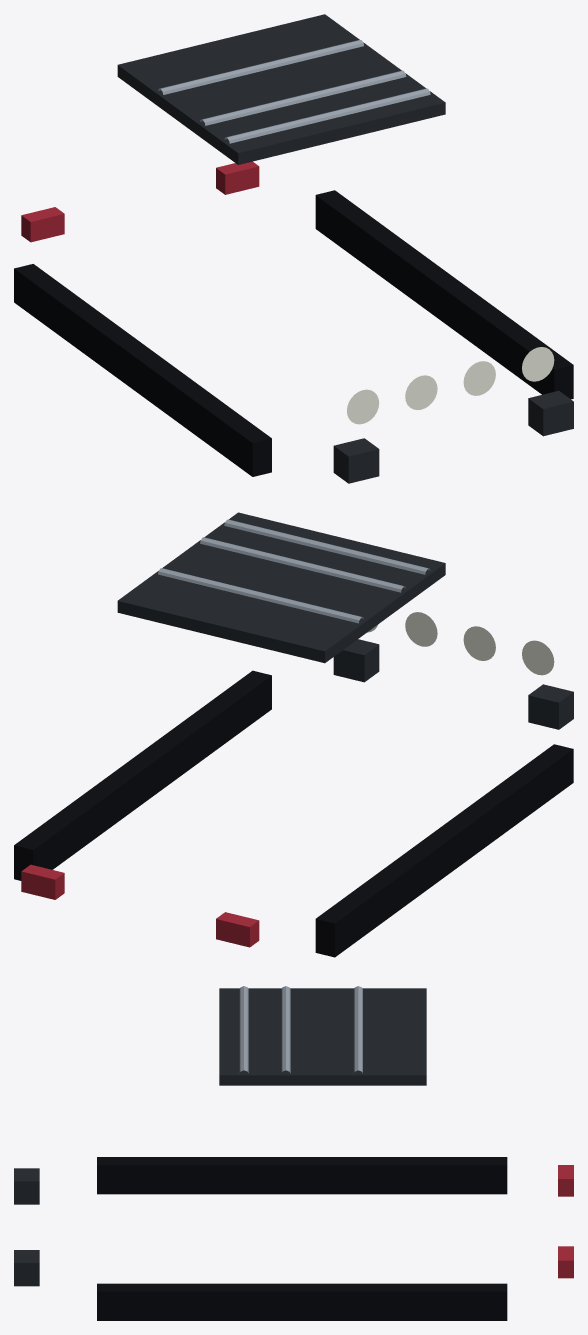
The model's file is black_maria_rally_dress.obj.
The picture shows the model from 3 angles, top to bottom: view 1: azimuth 30°, elevation 25°; view 2: azimuth 150°, elevation 25°; view 3: azimuth 270°, elevation 25°; orthographic projection. The views are drawn at different scales.
Parts seen in each view (by area): view 1: MUDGUARDS, ROOF_RACK, RACK_CROSSBARS, RALLY_LIGHTBAR, RALLY_BUMPER, REAR_RALLY; view 2: MUDGUARDS, ROOF_RACK, RACK_CROSSBARS, RALLY_BUMPER, RALLY_LIGHTBAR, REAR_RALLY; view 3: MUDGUARDS, ROOF_RACK, RACK_CROSSBARS, RALLY_BUMPER, REAR_RALLY.
Boxes of the visible parts, box(x1,y1,x2,y2) form: MUDGUARDS: box(14, 190, 573, 476); ROOF_RACK: box(117, 14, 445, 164); RACK_CROSSBARS: box(158, 40, 430, 143); RALLY_LIGHTBAR: box(347, 347, 554, 424); RALLY_BUMPER: box(333, 391, 573, 483); REAR_RALLY: box(21, 161, 259, 242); MUDGUARDS: box(14, 670, 573, 957); ROOF_RACK: box(117, 512, 445, 663); RACK_CROSSBARS: box(158, 519, 430, 623); RALLY_BUMPER: box(333, 639, 573, 729); RALLY_LIGHTBAR: box(367, 612, 554, 675); REAR_RALLY: box(21, 864, 259, 947); MUDGUARDS: box(97, 1157, 507, 1320); ROOF_RACK: box(219, 988, 426, 1085); RACK_CROSSBARS: box(239, 986, 362, 1073); RALLY_BUMPER: box(14, 1168, 39, 1286); REAR_RALLY: box(558, 1165, 573, 1278).
Size of the model in its own units: 1.98 by 1.55 by 3.48.
